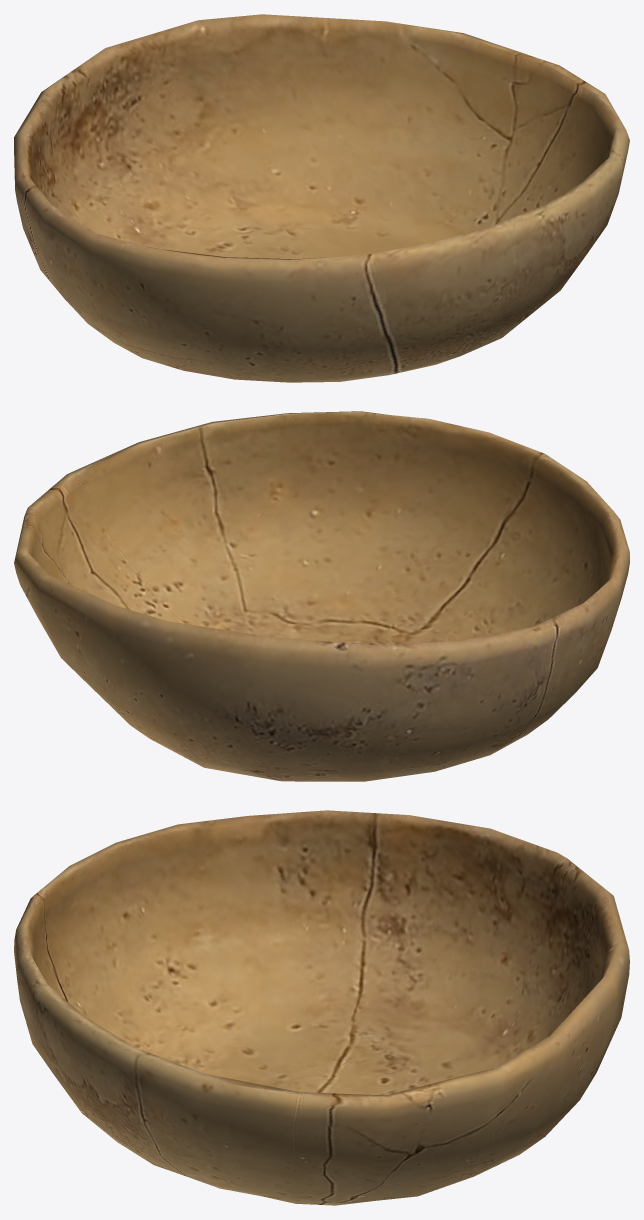
The model's file is antiquity4_46.fbx.
The picture shows the model from 3 angles, top to bottom: view 1: azimuth 30°, elevation 25°; view 2: azimuth 150°, elevation 25°; view 3: azimuth 270°, elevation 25°; orthographic projection. The views are drawn at different scales.
Visible parts, largest first — view 1: 21; view 2: 21; view 3: 21.
Boxes of the visible parts, x1,y1,x2,y2 form: 21: (14,14,629,382); 21: (14,411,629,781); 21: (14,810,629,1205).
Size of the model in its own units: 39.13 by 13.19 by 36.03.
1 material, 1 textured.
